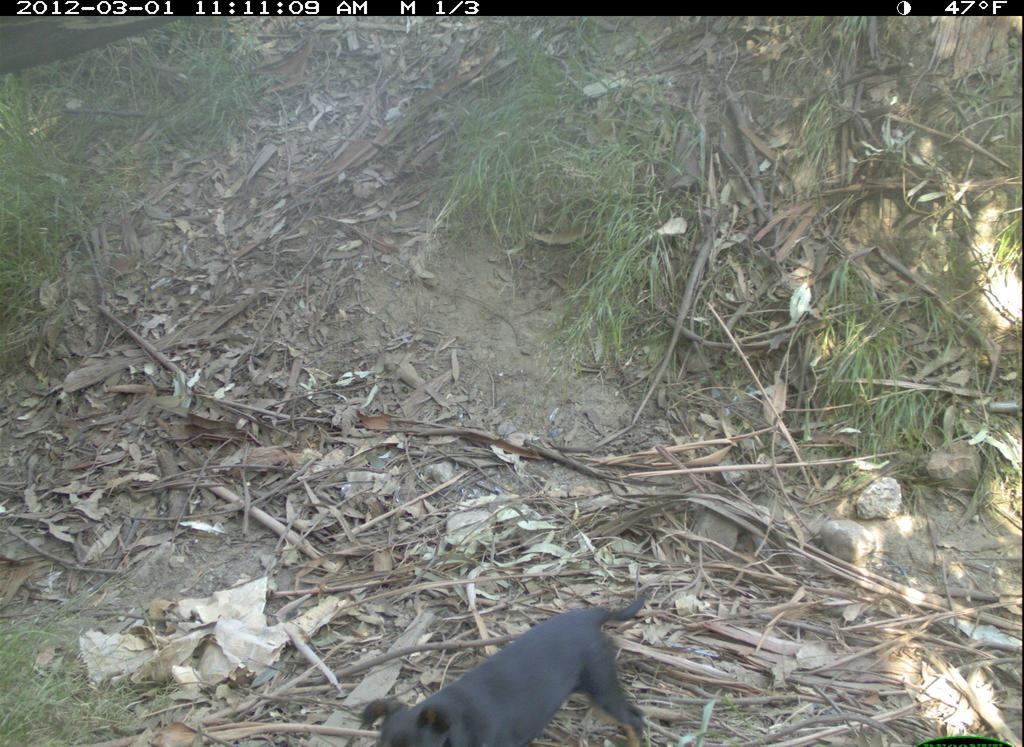dog: (359, 579, 697, 743)
